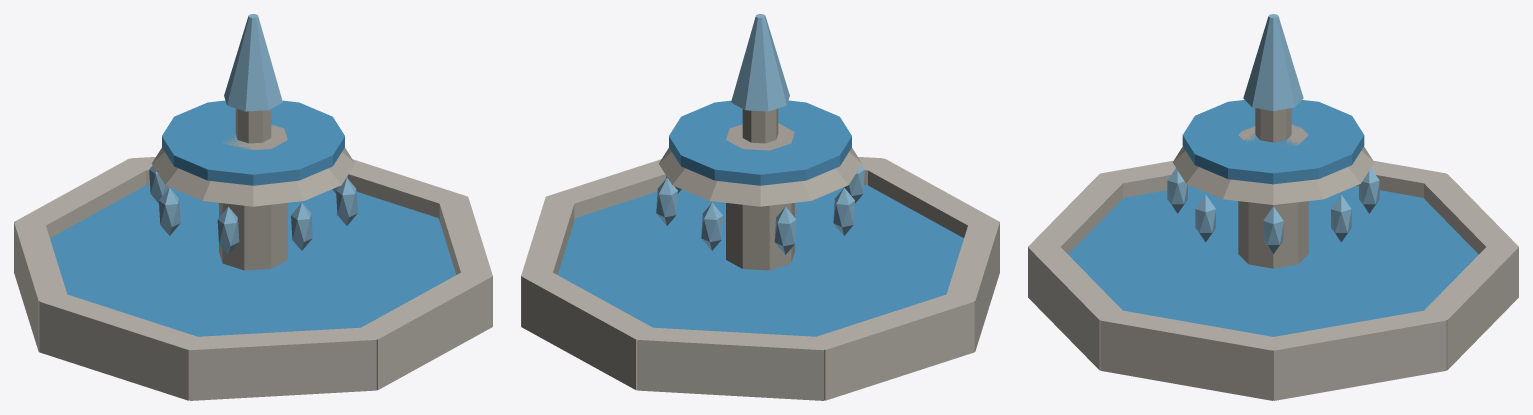
The model's file is fountain.glb.
3 views of the same model, side by side, from view 1: azimuth 30°, elevation 25°; view 2: azimuth 150°, elevation 25°; view 3: azimuth 270°, elevation 25° (orthographic).
Parts seen in each view (by area): view 1: gh_fountain; view 2: gh_fountain; view 3: gh_fountain.
Boxes of the visible parts, <box> form: gh_fountain: <box>14,14,492,400</box>; gh_fountain: <box>521,14,999,400</box>; gh_fountain: <box>1028,14,1518,400</box>.
Bounding box in the file's own units: 4.87 × 3.1 × 4.87.
